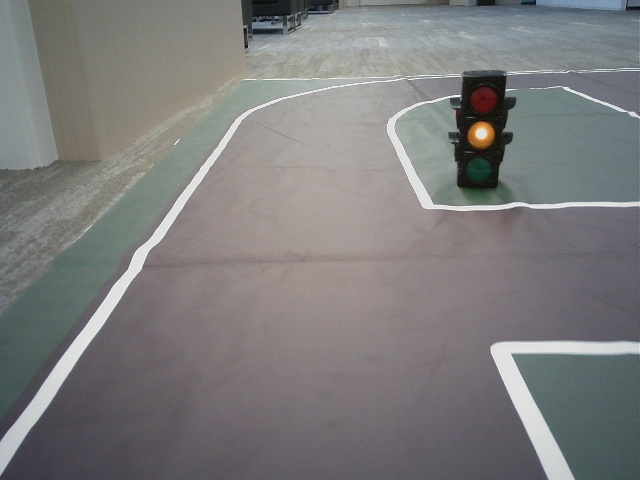yellow: (459, 77, 498, 183)
